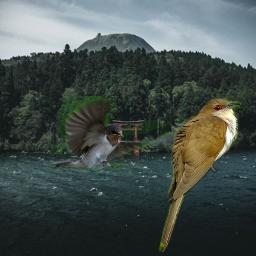Cuckoo: (158, 98, 242, 253)
Swallow: (51, 96, 193, 171)
